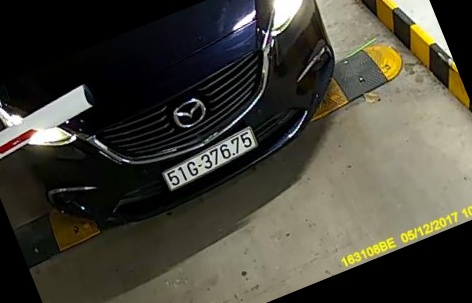plate: (159, 129, 262, 193)
